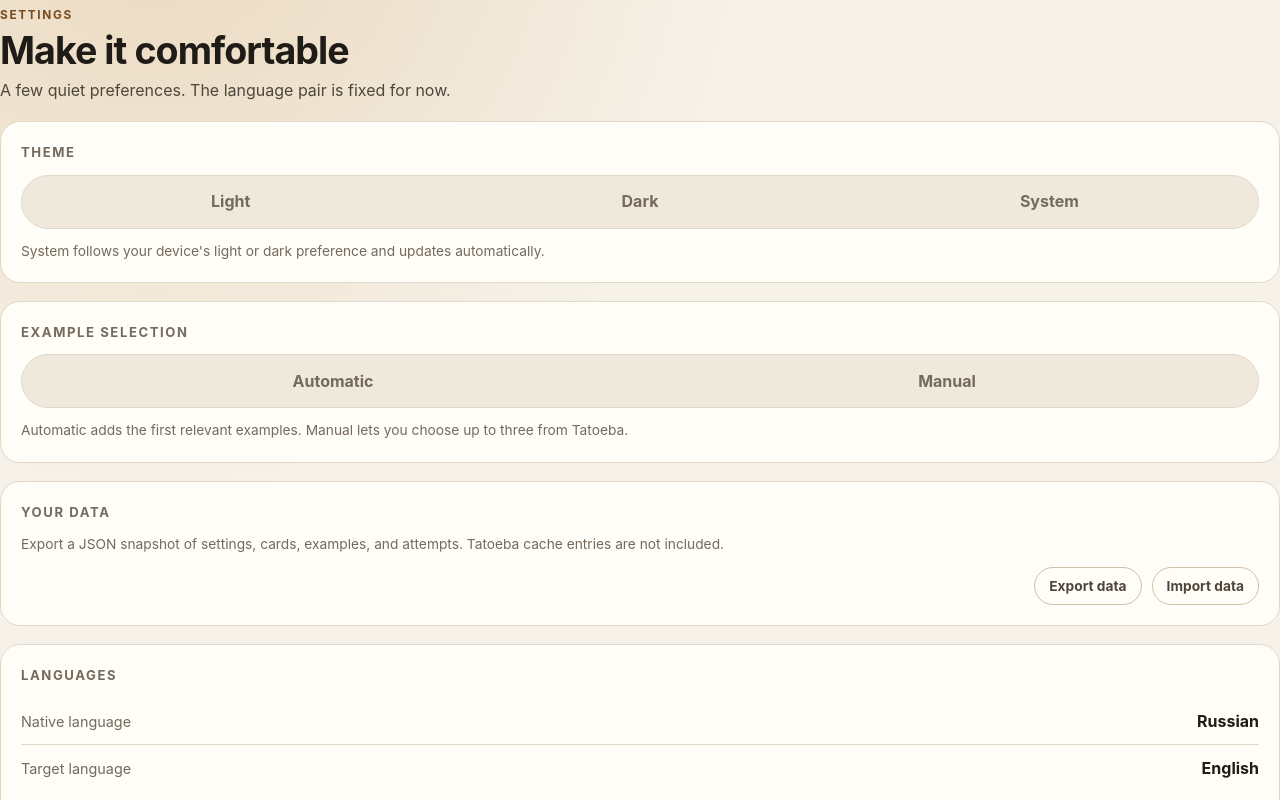
Scenario: SettingsPage › exports a snapshot with a downloadable JSON file
This screenshot has width=1280, height=800.
expect the heading "Make it comfortable" is shown: met, box [0,28,349,73]
Click the button "Export data" at (1088, 586), box [1034,567,1142,605]
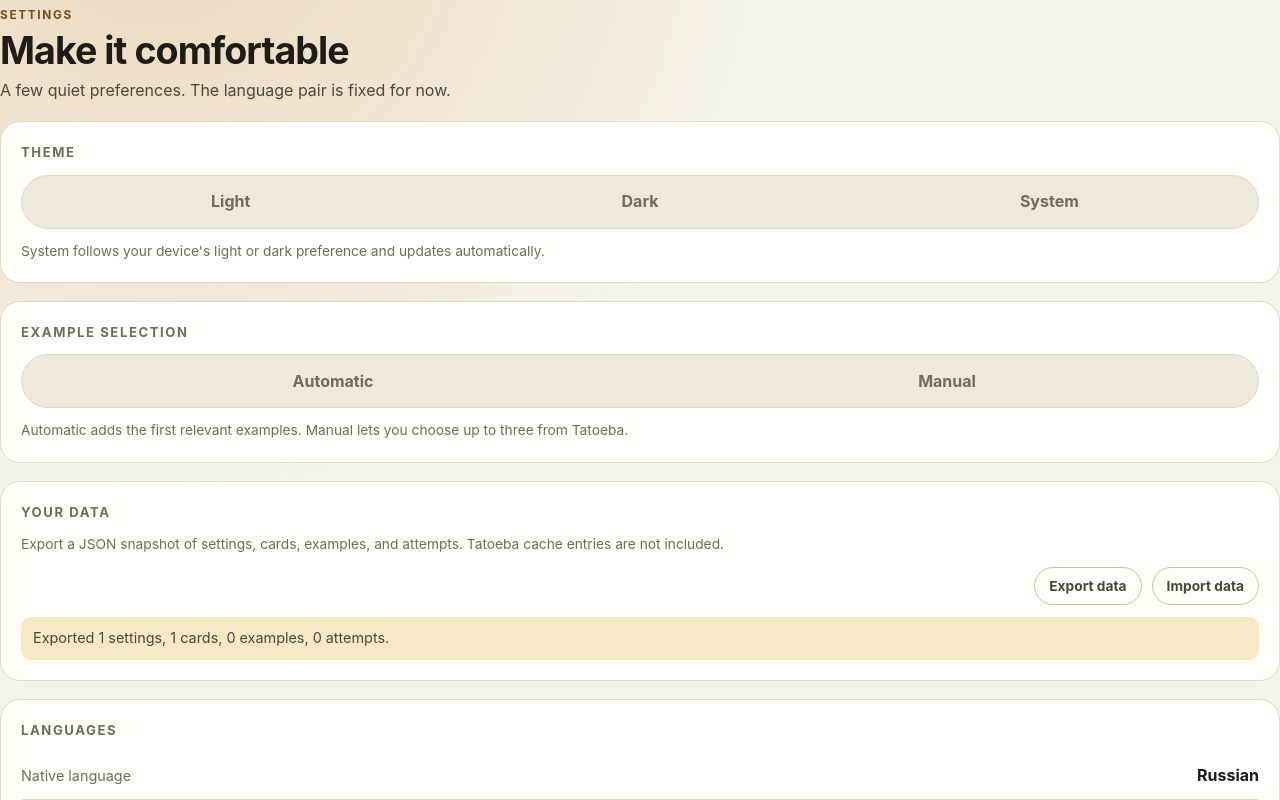
expect the text "Exported 1 settings, 1 cards, 0 examples, 0 attempts." is shown: met, box [21,617,1259,660]
